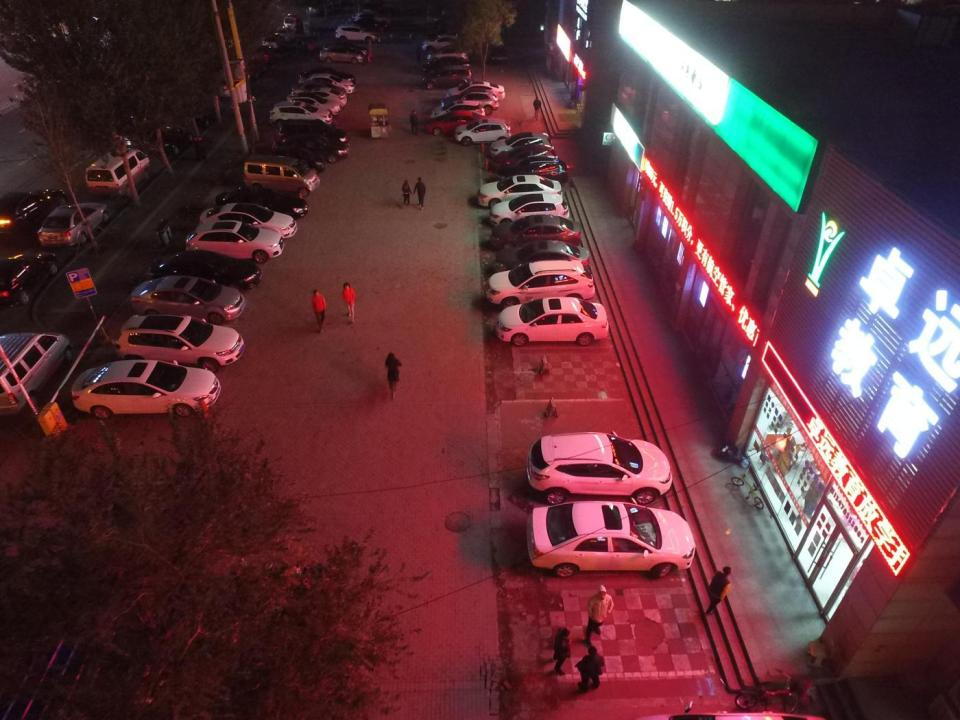car: (527, 501, 695, 580), (528, 432, 672, 501), (70, 357, 220, 420), (117, 313, 245, 373), (131, 274, 245, 324), (496, 296, 609, 346), (483, 259, 594, 309), (149, 250, 262, 294), (186, 220, 285, 265), (197, 203, 297, 240), (214, 186, 309, 224), (0, 190, 69, 242), (496, 239, 592, 274), (38, 202, 110, 248), (1, 250, 58, 308), (491, 216, 580, 252), (477, 174, 561, 211), (491, 192, 570, 227), (272, 131, 348, 162), (278, 117, 348, 150), (499, 156, 570, 186), (255, 143, 327, 172), (455, 117, 512, 149), (268, 101, 333, 126), (491, 131, 552, 157), (428, 110, 487, 136), (440, 90, 499, 116), (286, 86, 348, 109), (446, 80, 505, 104), (420, 65, 473, 90), (287, 79, 347, 101), (152, 125, 195, 154), (300, 64, 356, 86), (497, 144, 556, 164), (282, 93, 341, 113), (302, 72, 356, 92), (432, 102, 485, 122), (425, 45, 469, 63), (423, 32, 462, 52), (425, 56, 468, 74), (188, 105, 223, 127), (319, 46, 366, 62), (336, 25, 379, 41), (326, 43, 368, 58), (489, 44, 506, 64), (390, 27, 412, 41), (254, 46, 273, 62), (354, 11, 378, 21), (283, 14, 296, 30), (261, 34, 279, 45)
van: (2, 332, 74, 415), (84, 148, 151, 198), (244, 154, 320, 198)
